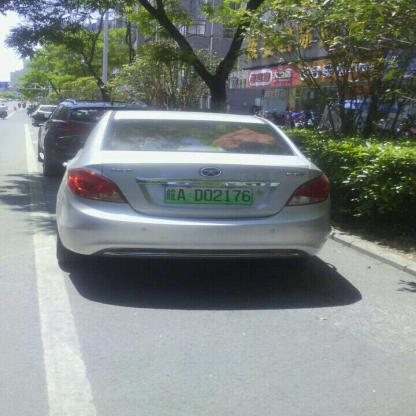lp: (165, 186, 252, 203)
